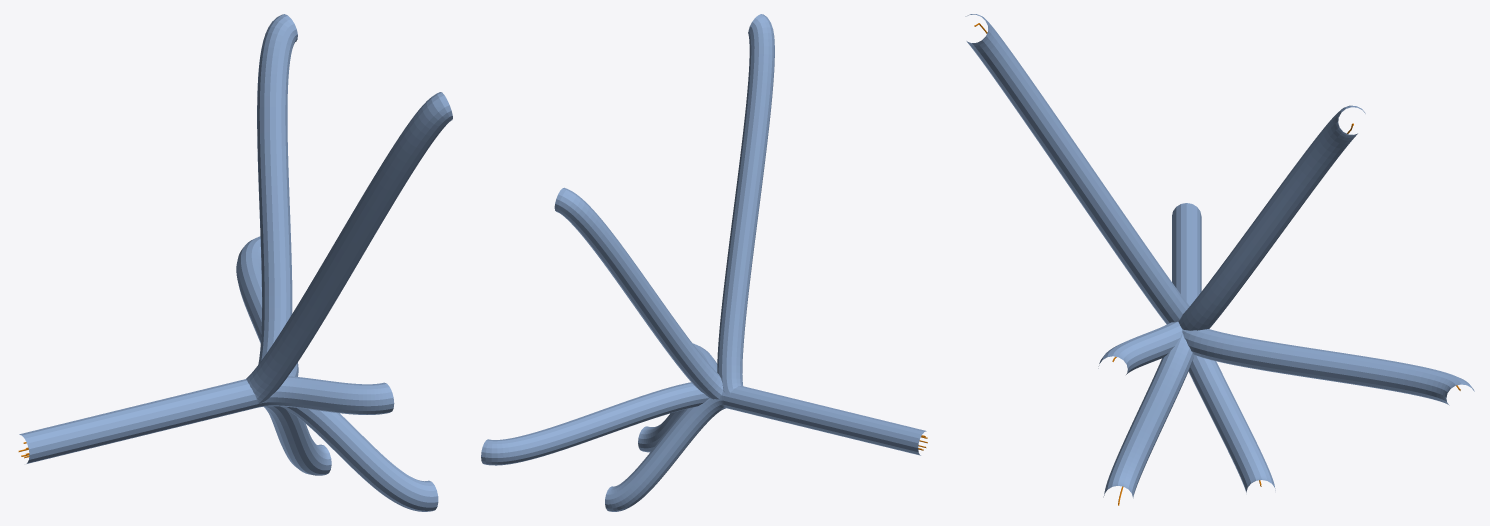
The model's file is 5_A60025764_fan6.glb.
3 views of the same model, side by side, from view 1: azimuth 30°, elevation 25°; view 2: azimuth 150°, elevation 25°; view 3: azimuth 270°, elevation 25° (orthographic). The views are drawn at different scales.
Parts seen in each view (by area): view 1: world; view 2: world; view 3: world.
Boxes of the visible parts, bbox=[...] form: world: bbox=[18, 14, 452, 511]; world: bbox=[481, 14, 927, 511]; world: bbox=[965, 14, 1474, 505].
Bounding box in the file's own units: 291 × 356 × 349.
